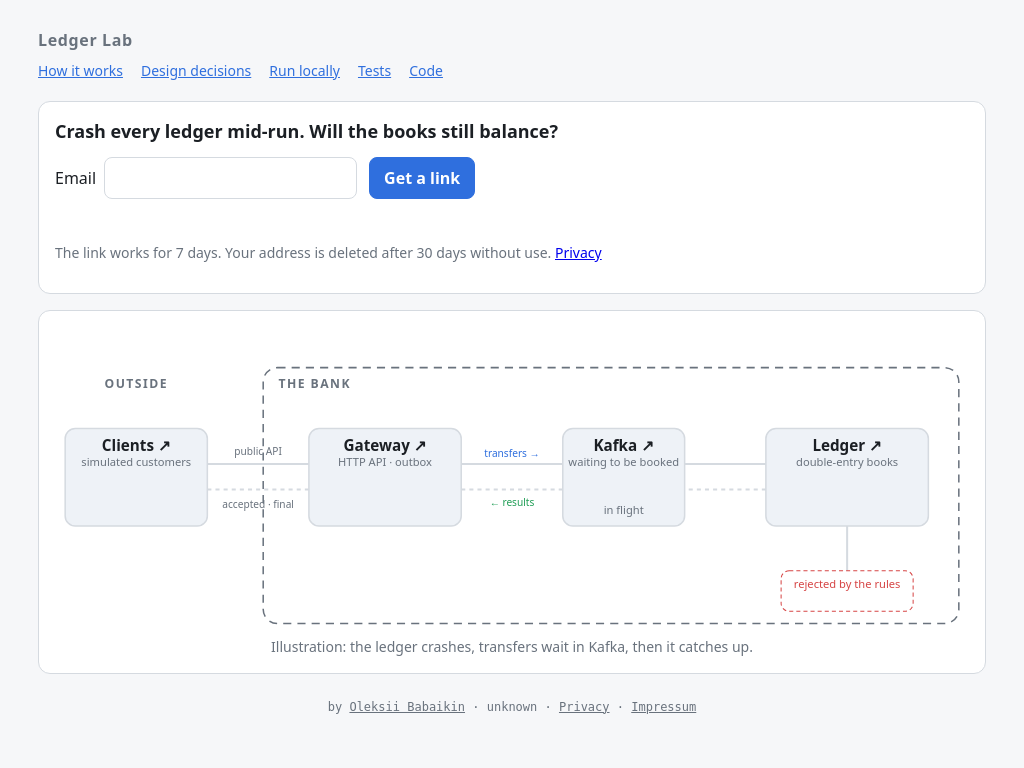
Test: the link form › sends the address and says the same for any address once it is taken, and that each mail can delete it
Expected: the text "The link works for 7 days. Your address is deleted after 30 days without use." is shown, [55,243,555,262]
Type "visitor@example.org" into the field labelled "Email".
click(231, 178); type("visitor@example.org")  # box [104,157,357,199]
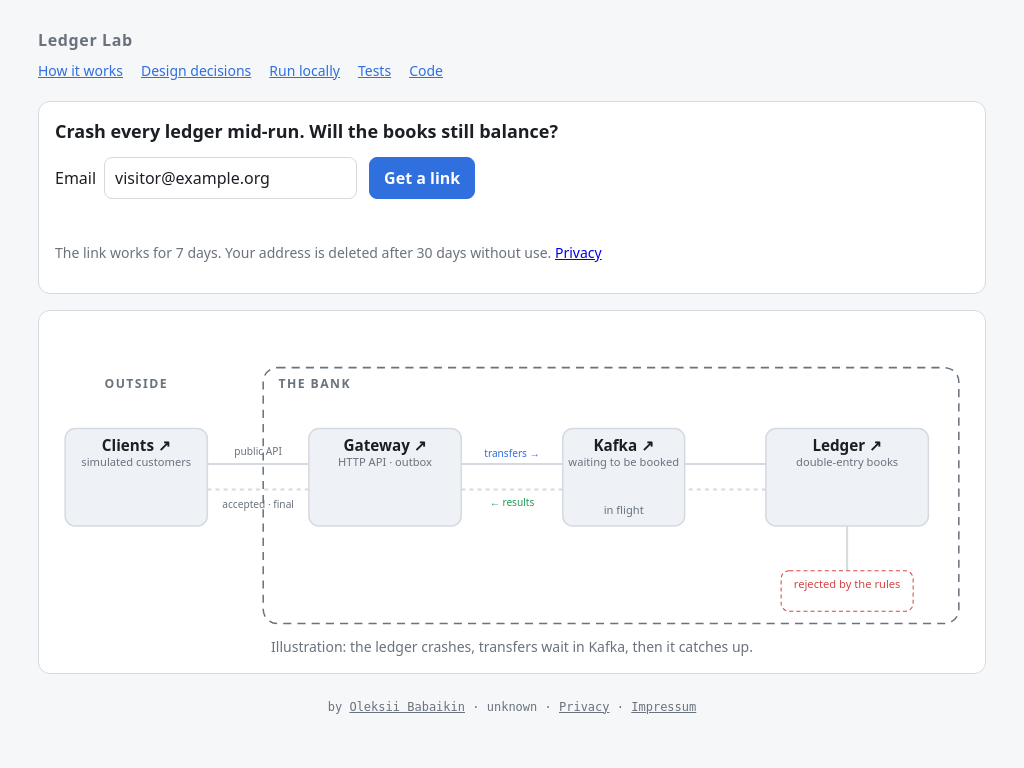
Click the button "Get a link".
click(422, 178)  # box [369,157,475,199]
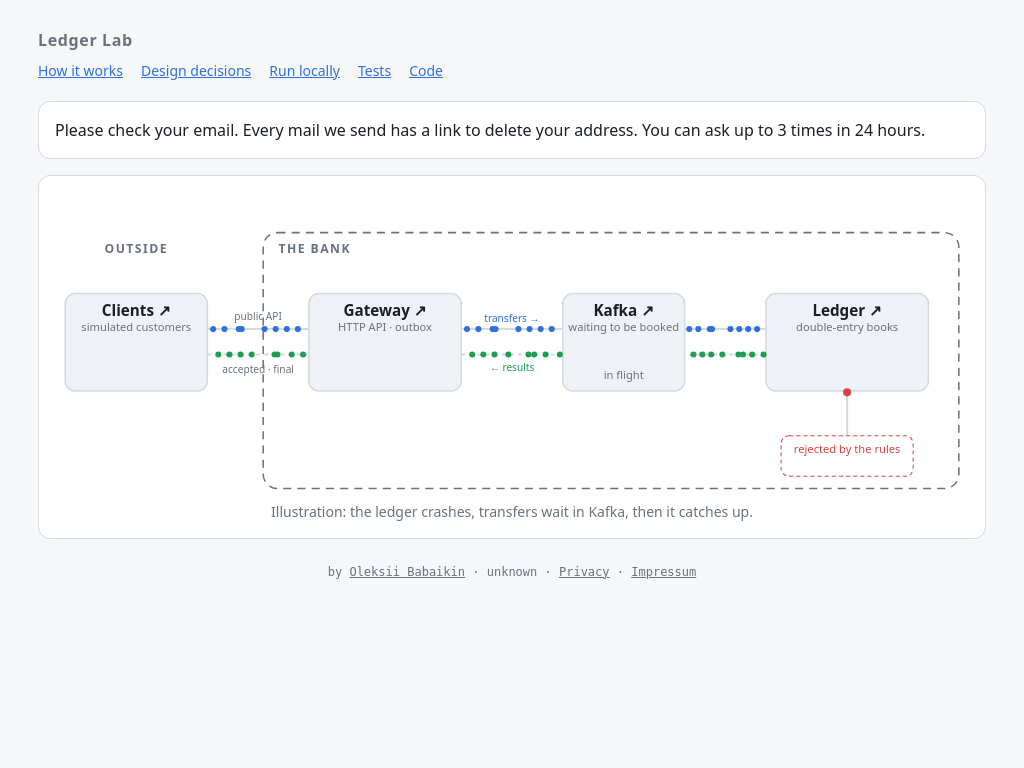
Now the button "Get a link" is gone
